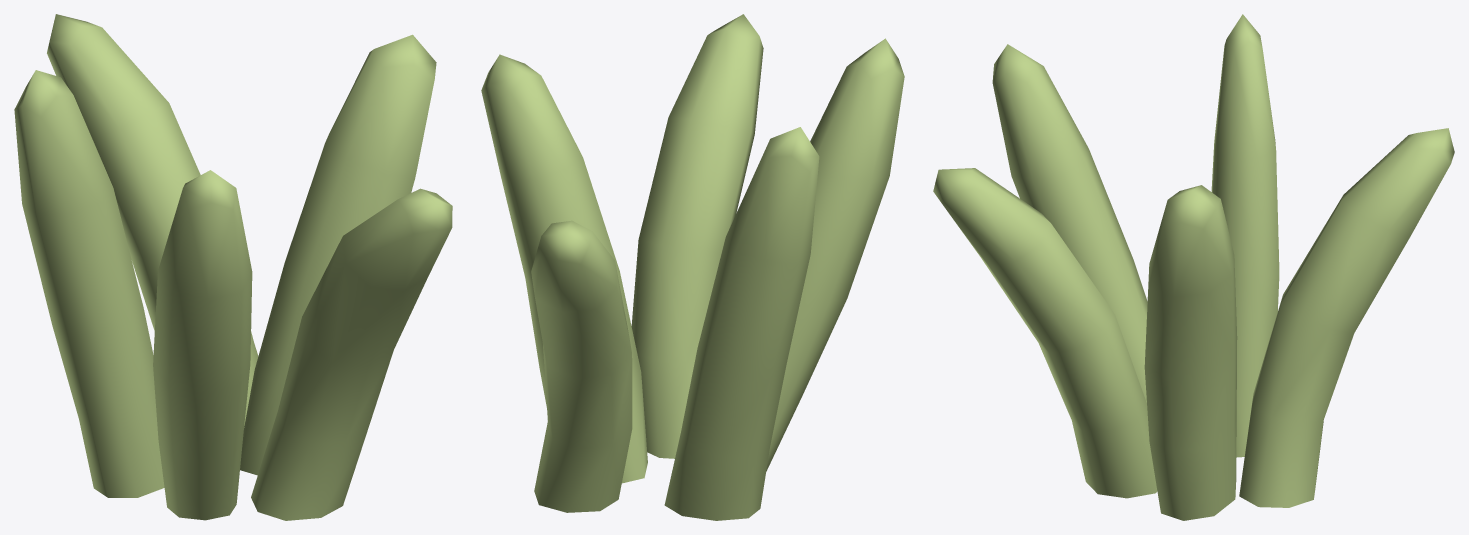
Rendered from Grass_01.fbx.
3 renders of one model, left to right at view 1: azimuth 30°, elevation 25°; view 2: azimuth 150°, elevation 25°; view 3: azimuth 270°, elevation 25°, orthographic. The views are drawn at different scales.
Parts seen in each view (by area): view 1: polySurface675; view 2: polySurface675; view 3: polySurface675.
Boxes of the visible parts, bbox=[...] form: polySurface675: bbox=[14, 14, 452, 520]; polySurface675: bbox=[481, 14, 904, 520]; polySurface675: bbox=[933, 14, 1454, 520].
Bounding box in the file's own units: 29.33 × 31.52 × 38.94.
